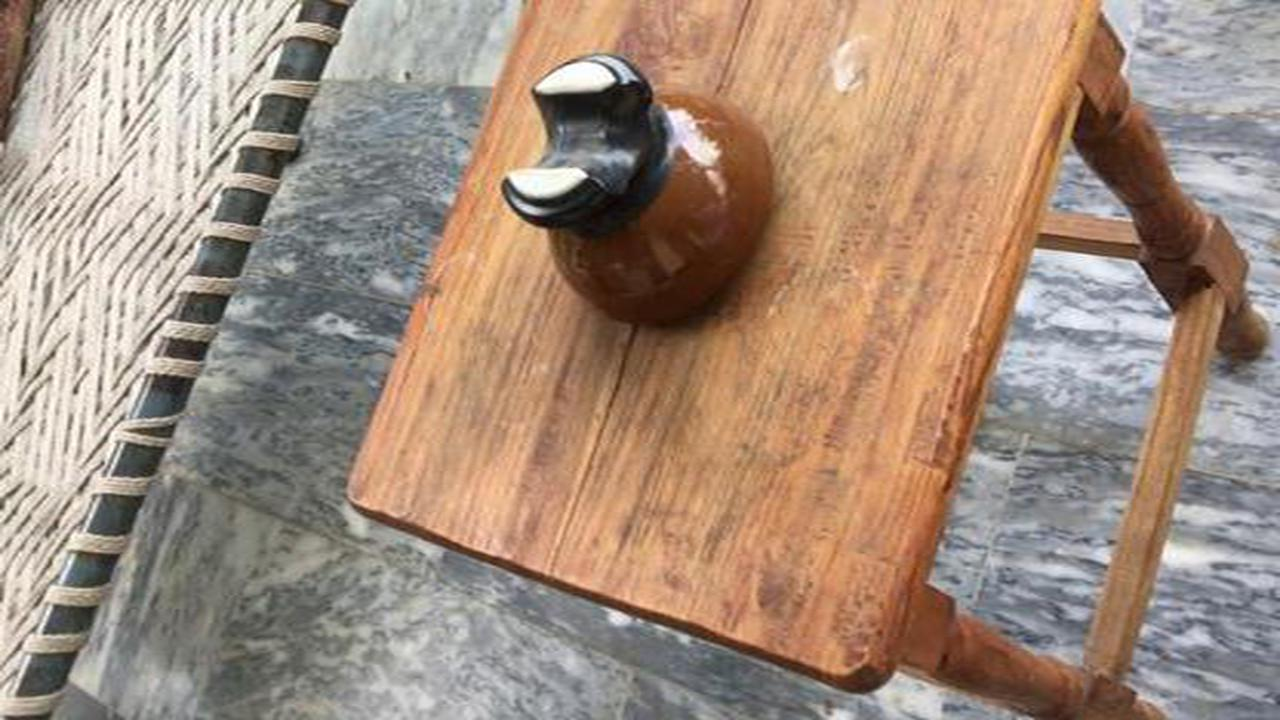insulator_pin: (477, 37, 791, 343)
